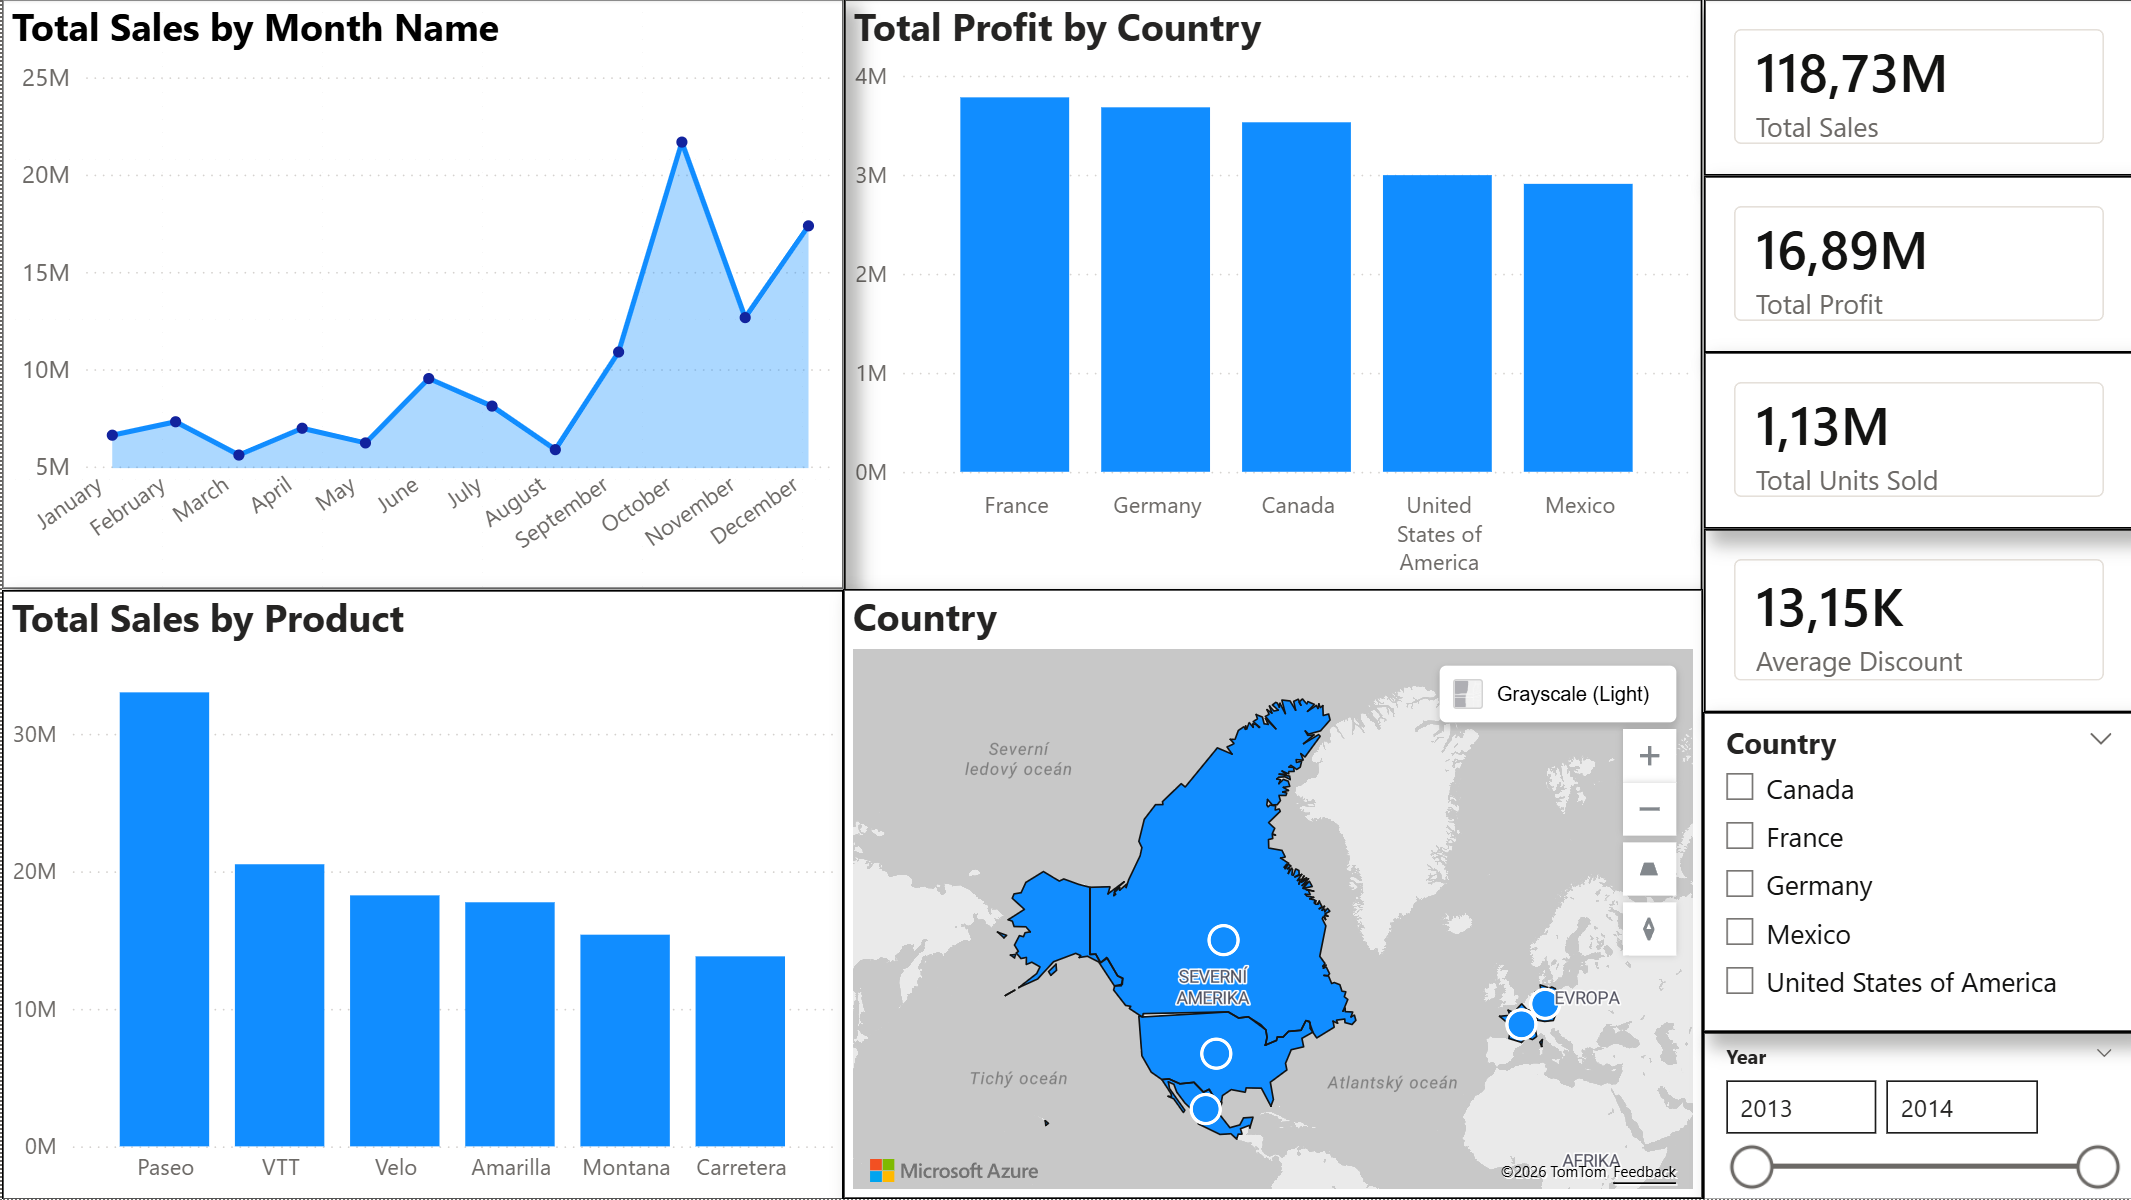

This screenshot's page, from the dashboard's own definition file:
{"tool":"powerbi","page":{"name":"Sales Overview","canvas":[1280,720],"ordinal":0},"visuals":[{"type":"clusteredColumnChart","fields":{"Y":["financials.Total Profit"],"Category":["financials.Country"]},"box":[505.3,0,515.3,354.7],"z":0},{"type":"lineChart","fields":{"Y":["financials.Total Sales"],"Category":["financials.Month Name"]},"box":[0,0,505.1,354.5],"z":1000},{"type":"clusteredColumnChart","fields":{"Category":["financials.Product"],"Y":["financials.Total Sales"]},"box":[0,354.5,505.1,365.8],"z":2000},{"type":"azureMap","fields":{"Category":["financials.Country"]},"box":[504.5,354.2,515.8,366.1],"z":3000},{"type":"cardVisual","fields":{"Data":["financials.Total Sales"]},"box":[1021.5,0,258.5,105.9],"z":4000},{"type":"cardVisual","fields":{"Data":["financials.Average Discount"]},"box":[1021.5,317.8,258.5,109.9],"z":5000},{"type":"cardVisual","fields":{"Data":["financials.Total Profit"]},"box":[1021.5,105.9,258.5,105.9],"z":6000},{"type":"cardVisual","fields":{"Data":["financials.Total Units Sold"]},"box":[1021.5,211.9,258.5,105.9],"z":7000},{"type":"slicer","fields":{"Values":["financials.Year"]},"box":[1020.8,619.7,259.2,100.6],"z":8000},{"type":"slicer","fields":{"Values":["financials.Country"]},"box":[1020.8,427.8,259.2,191.9],"z":9000}]}

Visuals, with their boxes in screenshot pixels (x1, y1, x2, y2), scaled from the page's 1280x720 canvas onto the 2131x1200 screenshot:
clusteredColumnChart - financials.Total Profit x financials.Country: {"left": 841, "top": 0, "right": 1699, "bottom": 591}
lineChart - financials.Total Sales x financials.Month Name: {"left": 0, "top": 0, "right": 841, "bottom": 591}
clusteredColumnChart - financials.Product x financials.Total Sales: {"left": 0, "top": 591, "right": 841, "bottom": 1199}
azureMap - financials.Country: {"left": 840, "top": 590, "right": 1699, "bottom": 1199}
cardVisual - financials.Total Sales: {"left": 1701, "top": 0, "right": 2130, "bottom": 177}
cardVisual - financials.Average Discount: {"left": 1701, "top": 530, "right": 2130, "bottom": 713}
cardVisual - financials.Total Profit: {"left": 1701, "top": 177, "right": 2130, "bottom": 353}
cardVisual - financials.Total Units Sold: {"left": 1701, "top": 353, "right": 2130, "bottom": 530}
slicer - financials.Year: {"left": 1699, "top": 1033, "right": 2130, "bottom": 1199}
slicer - financials.Country: {"left": 1699, "top": 713, "right": 2130, "bottom": 1033}
